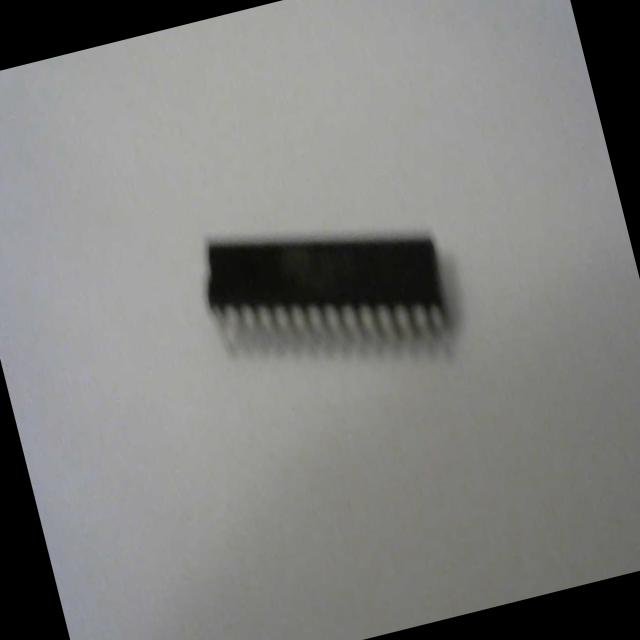atmega: (187, 179, 463, 406)
